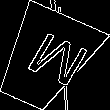M_SW: (9, 26, 83, 92)
